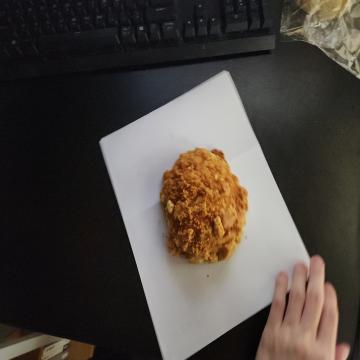soboru_bread: (162, 145, 250, 268)
